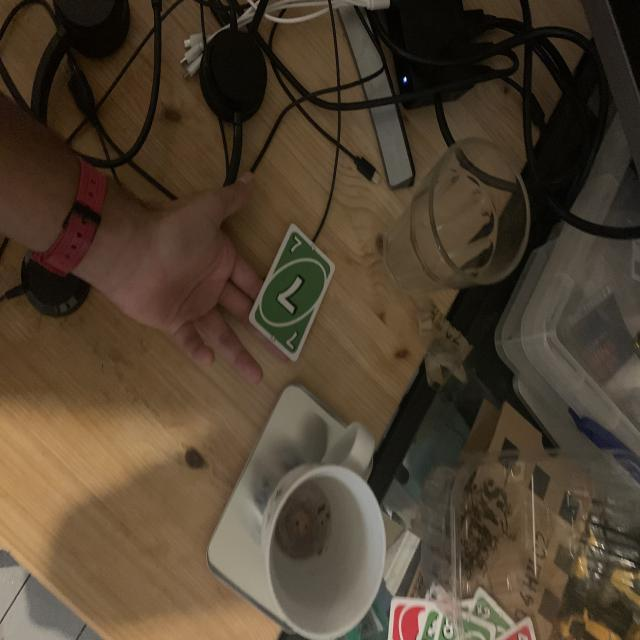lgreen-7: (285, 234, 303, 257)
